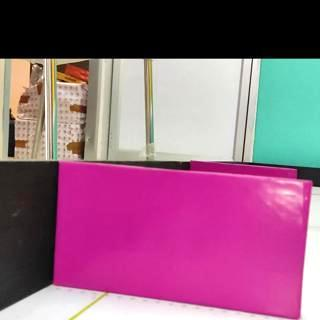xparking: (54, 162, 312, 318), (192, 162, 296, 177)
